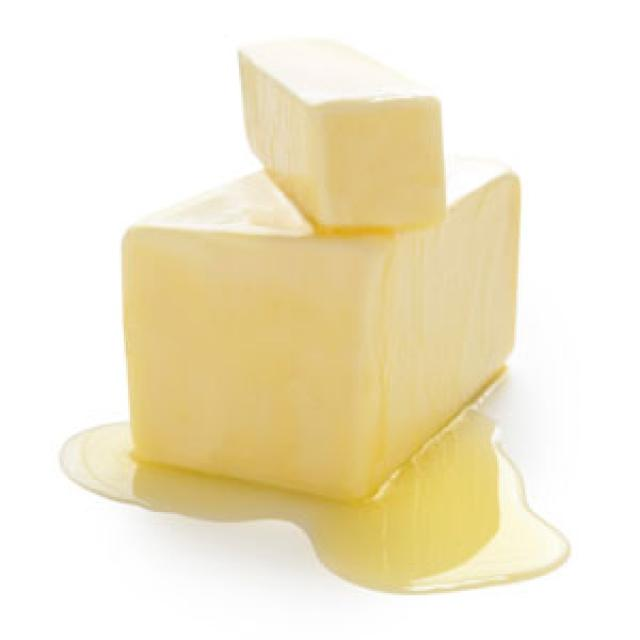Butter: (119, 158, 512, 486), (239, 45, 439, 230)
